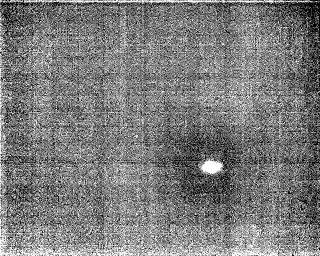AIRPLANE: (198, 156, 225, 177)
